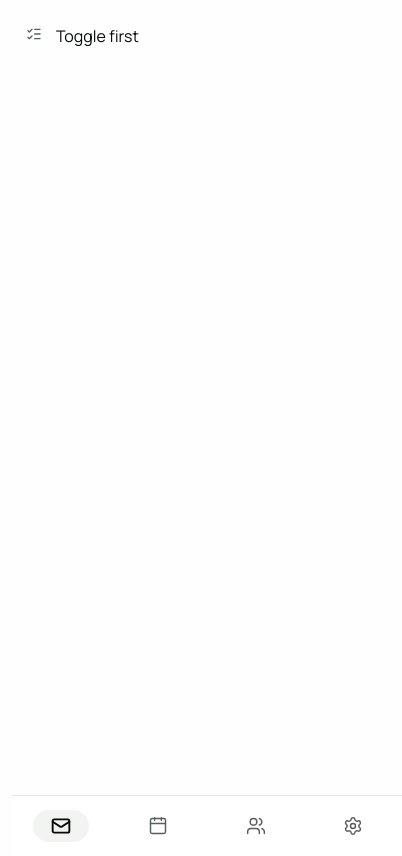
BulkMailToolbar › announces partial failures and restores focus to the selection checkbox
Click the button named "Select messages": (34, 34) [12,12,56,56]
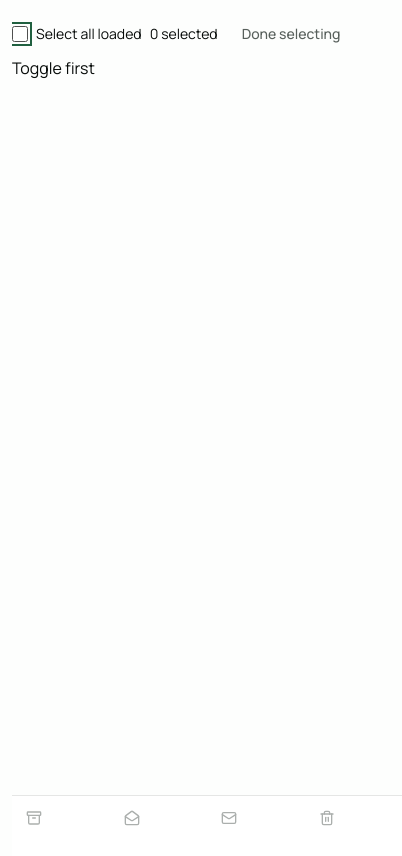
Click the checkbox named "Select all loaded conversations": (20, 34) [12,26,28,42]
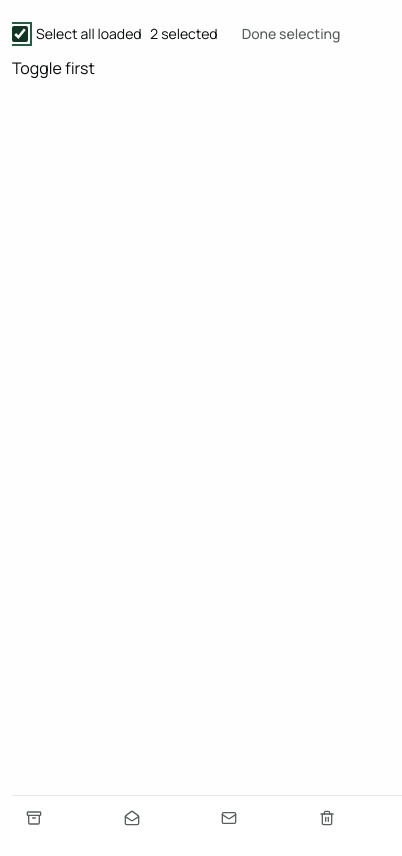
Click the button named "Archive selected": (34, 818) [12,796,56,840]
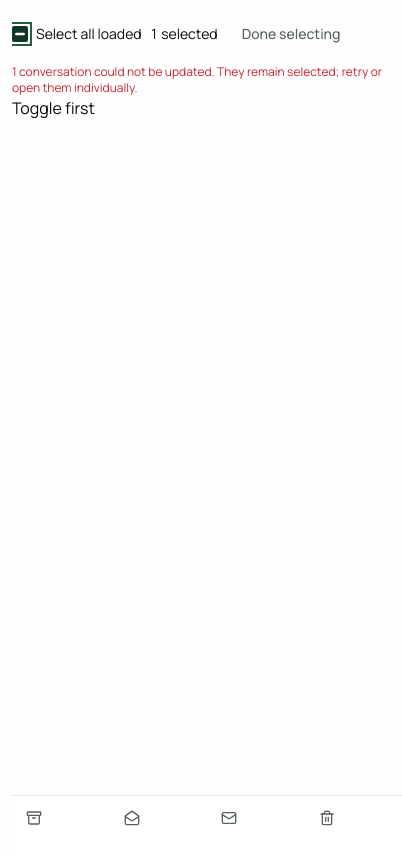
Expected: the 2nd message shows "1 conversation could not be updated.", [12,63,382,96]
Expected: the text "1 selected" is shown, [150,24,218,44]
